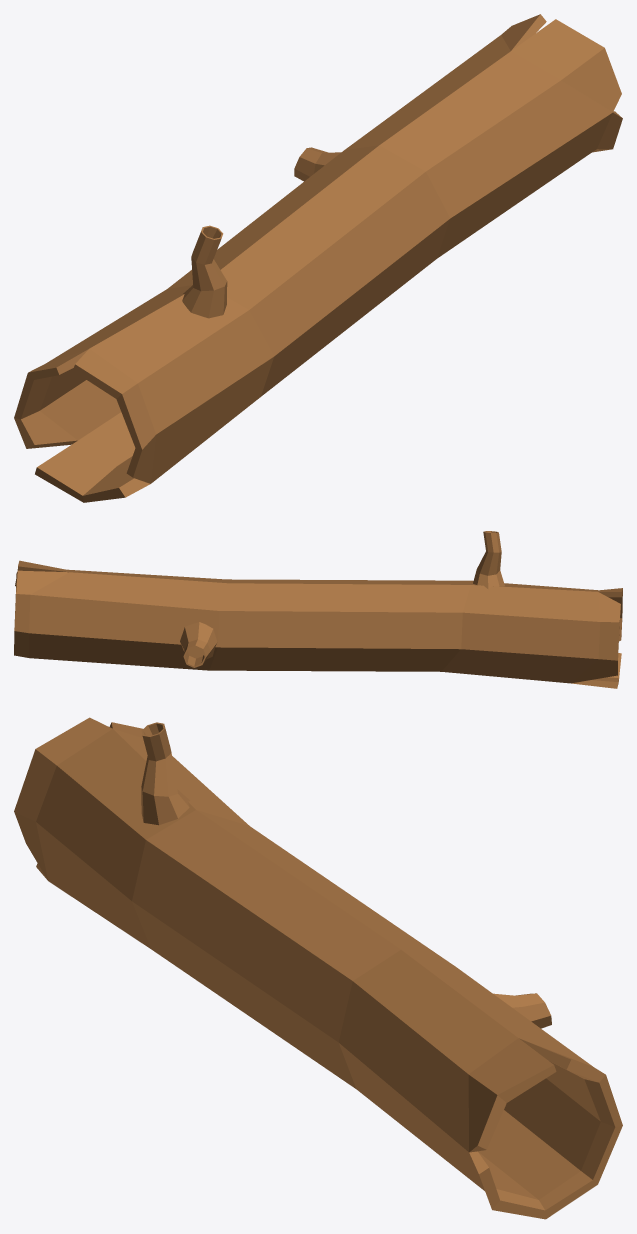
Rendered from Bark.fbx.
The picture shows the model from 3 angles, top to bottom: view 1: azimuth 30°, elevation 25°; view 2: azimuth 150°, elevation 25°; view 3: azimuth 270°, elevation 25°; orthographic projection. The views are drawn at different scales.
Visible parts, largest first — view 1: pasted__Buche002; view 2: pasted__Buche002; view 3: pasted__Buche002.
Part boxes in pixels (x1,y1,x2,y2): pasted__Buche002: (14,14,622,502); pasted__Buche002: (14,531,622,688); pasted__Buche002: (14,717,622,1219).
Size of the model in its own units: 95.93 by 25.78 by 60.67.
